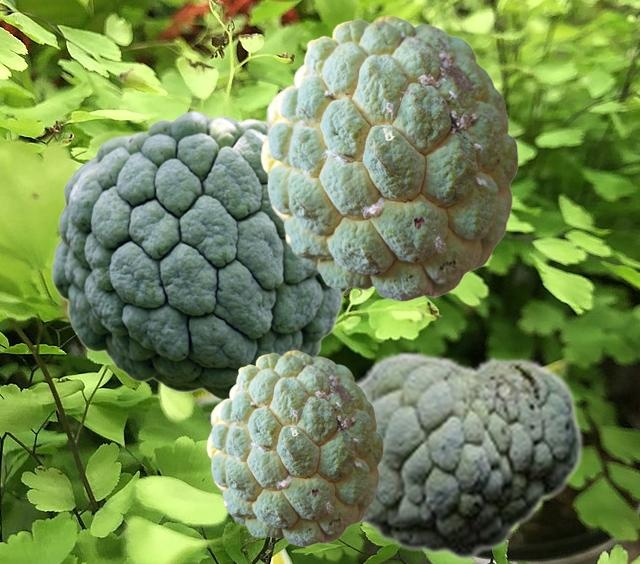atis: (51, 110, 350, 400), (260, 15, 517, 300), (354, 350, 583, 560), (206, 350, 382, 545)
